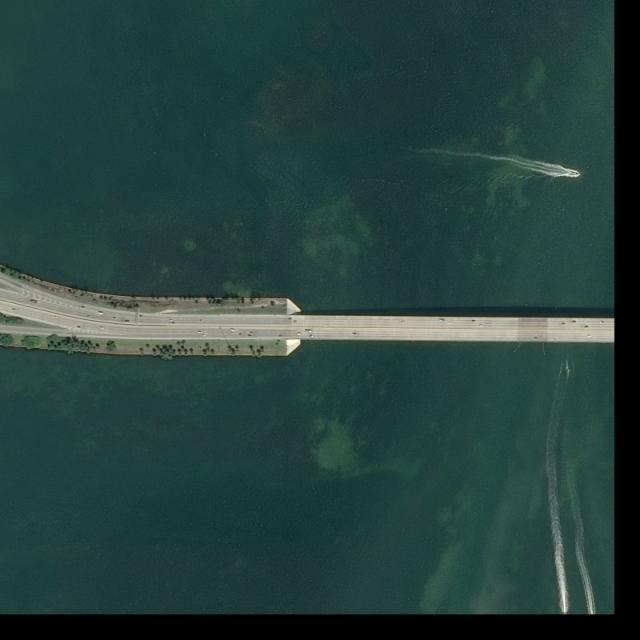ship: (565, 167, 580, 178), (563, 611, 567, 614)
